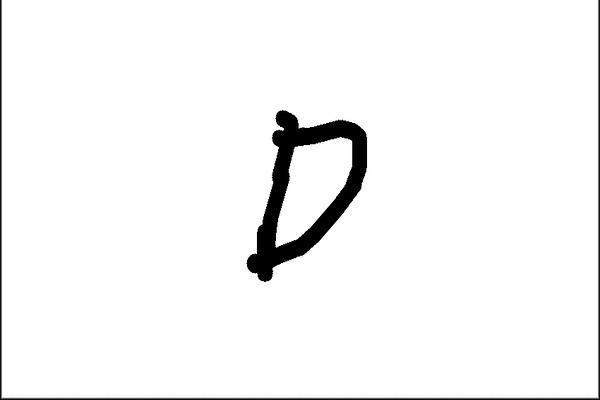D: (240, 102, 375, 286)
